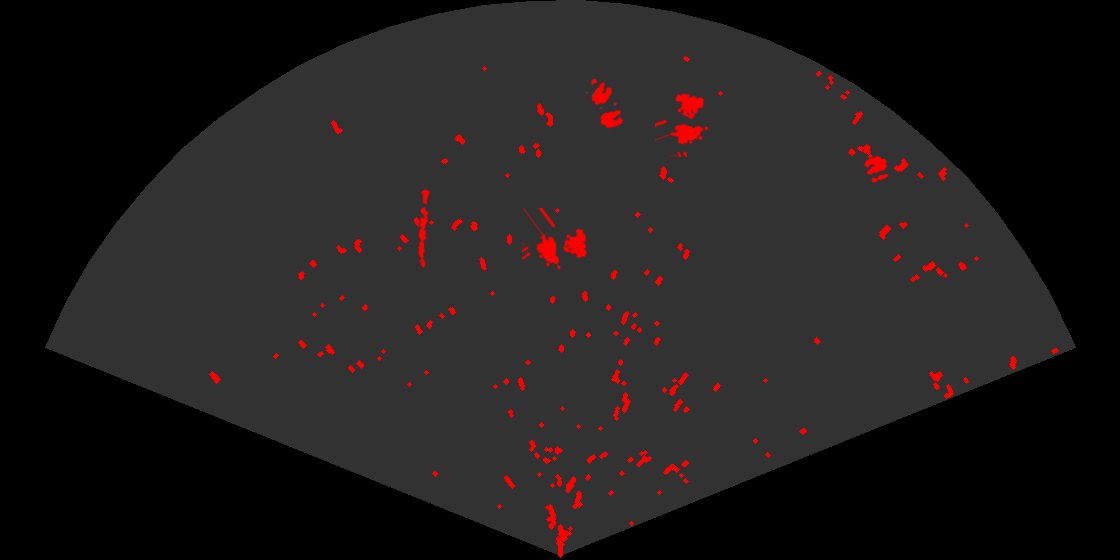ball: (584, 77, 614, 106), (862, 154, 890, 184), (598, 101, 625, 130)
cage: (522, 208, 589, 271), (655, 92, 710, 157)
chain: (416, 187, 431, 269)
